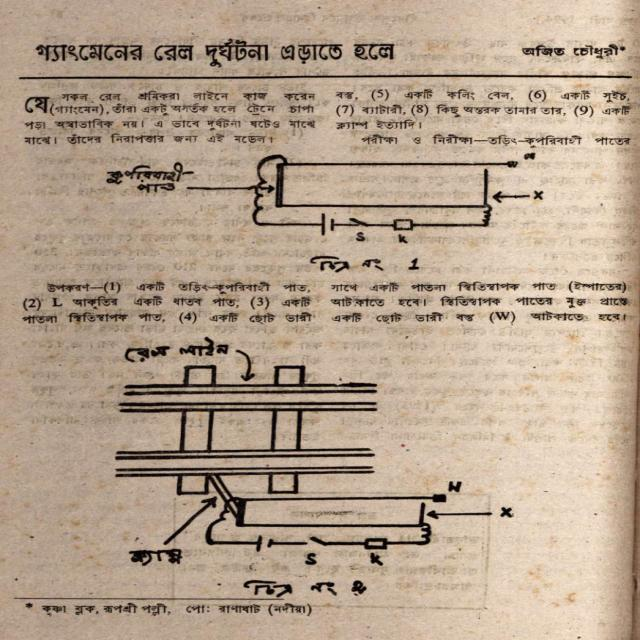caption: (227, 576, 384, 600), (302, 252, 434, 274)
image: (99, 352, 511, 580), (235, 157, 555, 244)
paragraph: (2, 86, 326, 149), (0, 274, 313, 330), (323, 280, 635, 327), (330, 85, 633, 130)
text: (13, 39, 410, 67), (12, 602, 328, 624), (351, 130, 637, 152), (94, 158, 207, 198), (104, 336, 240, 367), (502, 43, 625, 61), (117, 546, 183, 574)
